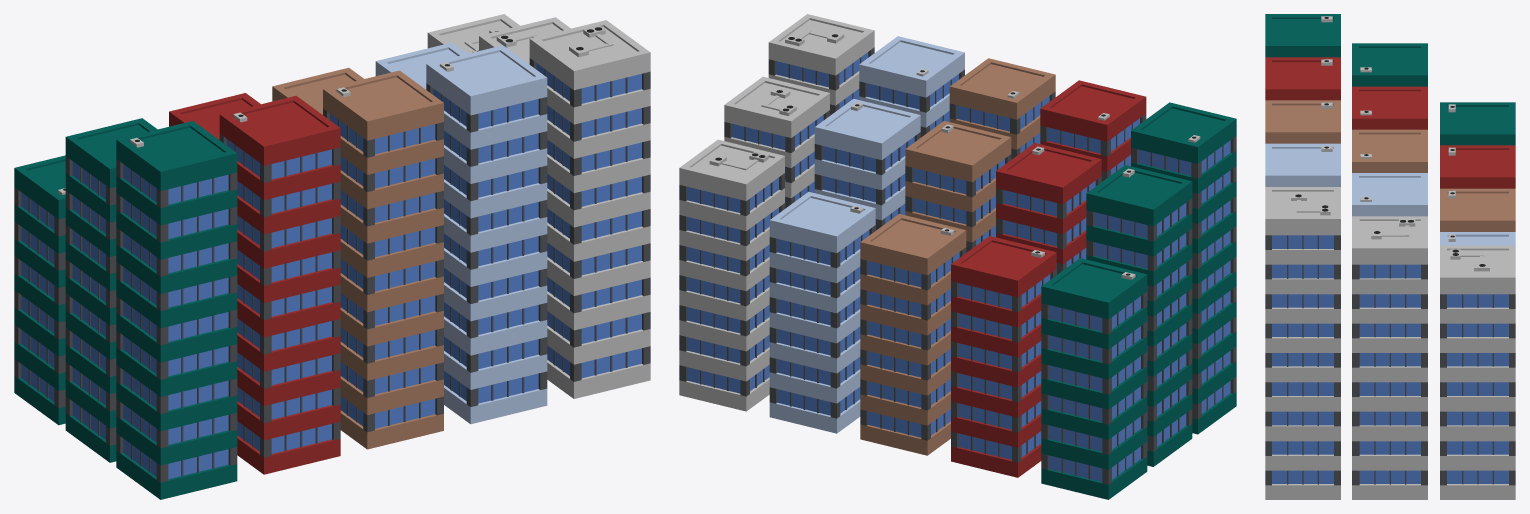
The model's file is Buildings_geo.fbx.
3 renders of one model, left to right at view 1: azimuth 30°, elevation 25°; view 2: azimuth 150°, elevation 25°; view 3: azimuth 270°, elevation 25°, orthographic. The views are drawn at different scales.
Parts seen in each view (by area): view 1: B1_Turq_Long, B1_Blue_Long, B1_Red_Long, B1_Gray_Long, B1_Brown_Long, B2_Turq_Med, B3_Turq_Short, B2_Blue_Med, B2_Red_Med, B2_Gray_Med, B3_Gray_Short, B2_Brown_Med; view 2: B3_Gray_Short, B3_Turq_Short, B3_Blue_Short, B3_Brown_Short, B3_Red_Short, B2_Turq_Med, B1_Turq_Long, B2_Blue_Med, B2_Red_Med, B2_Brown_Med, B2_Gray_Med, B1_Gray_Long (+3 smaller); view 3: B1_Gray_Long, B2_Gray_Med, B3_Gray_Short, B1_Blue_Long, B2_Blue_Med, B1_Brown_Long, B2_Brown_Med, B3_Brown_Short, B1_Red_Long, B2_Red_Med, B3_Red_Short, B1_Turq_Long (+3 smaller).
Boxes of the visible parts, x1,y1,x2,y2 form: B1_Turq_Long: [116, 121, 237, 499]; B1_Blue_Long: [426, 45, 547, 424]; B1_Red_Long: [219, 95, 340, 474]; B1_Gray_Long: [529, 20, 650, 398]; B1_Brown_Long: [323, 70, 443, 449]; B2_Turq_Med: [65, 118, 157, 462]; B3_Turq_Short: [14, 155, 65, 425]; B2_Blue_Med: [375, 42, 467, 89]; B2_Red_Med: [169, 93, 260, 139]; B2_Gray_Med: [479, 17, 570, 64]; B3_Gray_Short: [427, 14, 519, 53]; B2_Brown_Med: [272, 67, 363, 114]; B3_Gray_Short: [679, 139, 784, 411]; B3_Turq_Short: [1041, 258, 1147, 499]; B3_Blue_Short: [769, 191, 875, 433]; B3_Brown_Short: [860, 214, 966, 455]; B3_Red_Short: [951, 236, 1056, 477]; B2_Turq_Med: [1086, 165, 1192, 466]; B1_Turq_Long: [1131, 102, 1236, 434]; B2_Blue_Med: [814, 98, 920, 230]; B2_Red_Med: [996, 143, 1101, 274]; B2_Brown_Med: [905, 121, 1011, 252]; B2_Gray_Med: [724, 76, 829, 208]; B1_Gray_Long: [768, 14, 874, 115]; B1_Gray_Long: [1265, 187, 1340, 499]; B2_Gray_Med: [1352, 216, 1427, 499]; B3_Gray_Short: [1440, 245, 1515, 499]; B1_Blue_Long: [1265, 143, 1340, 186]; B2_Blue_Med: [1352, 173, 1427, 216]; B1_Brown_Long: [1265, 100, 1340, 143]; B2_Brown_Med: [1352, 129, 1427, 172]; B3_Brown_Short: [1440, 188, 1515, 231]; B1_Red_Long: [1265, 57, 1340, 100]; B2_Red_Med: [1352, 86, 1427, 129]; B3_Red_Short: [1440, 145, 1515, 188]; B1_Turq_Long: [1265, 14, 1340, 57].
Bounding box in the file's own units: 1024 × 659 × 529.
1 material, 1 textured.
